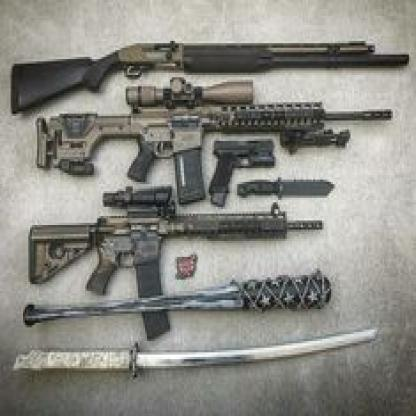Gun: (34, 75, 394, 206), (29, 183, 324, 341), (11, 38, 411, 116)
Knife: (236, 175, 336, 202)
Pistol: (208, 137, 276, 209)
